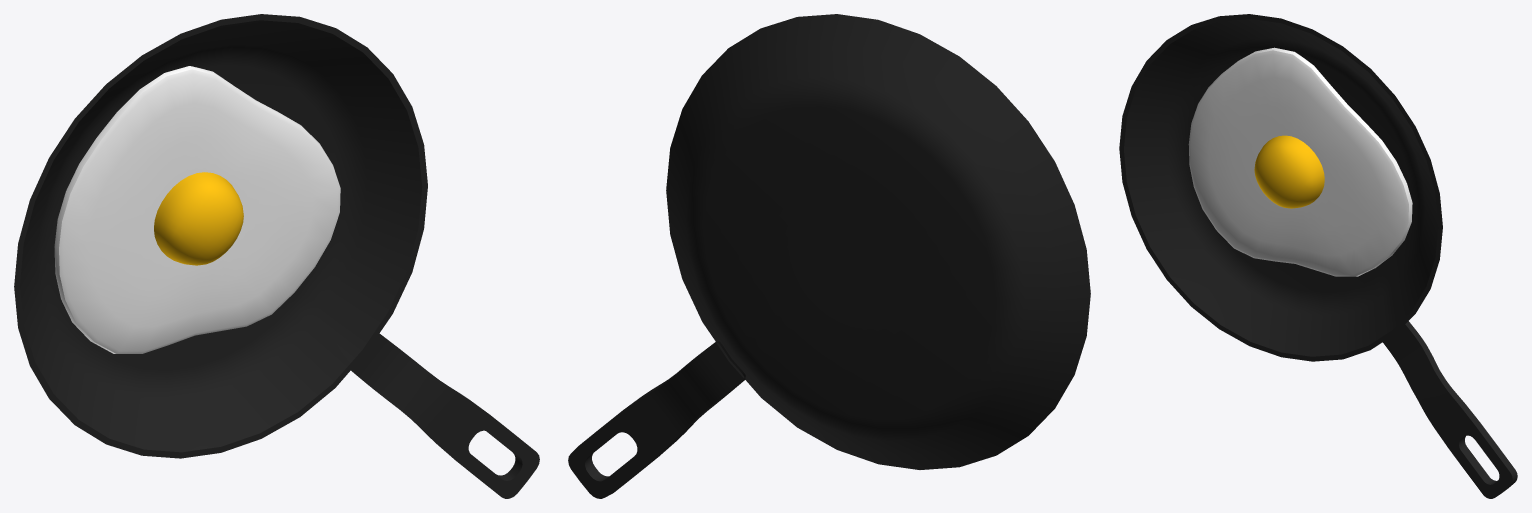
File: cooking.glb
3 renders of one model, left to right at view 1: azimuth 30°, elevation 25°; view 2: azimuth 150°, elevation 25°; view 3: azimuth 330°, elevation 25°, orthographic. The views are drawn at different scales.
Visible parts, largest first — view 1: Circle.2217; view 2: Circle.2217; view 3: Circle.2217.
Part boxes in pixels (bbox=[...]): Circle.2217: bbox=[14, 14, 539, 498]; Circle.2217: bbox=[568, 14, 1090, 498]; Circle.2217: bbox=[1119, 14, 1517, 498].
Bounding box in the file's own units: 2.18 × 2.18 × 0.2914.
1 material, 1 textured.
